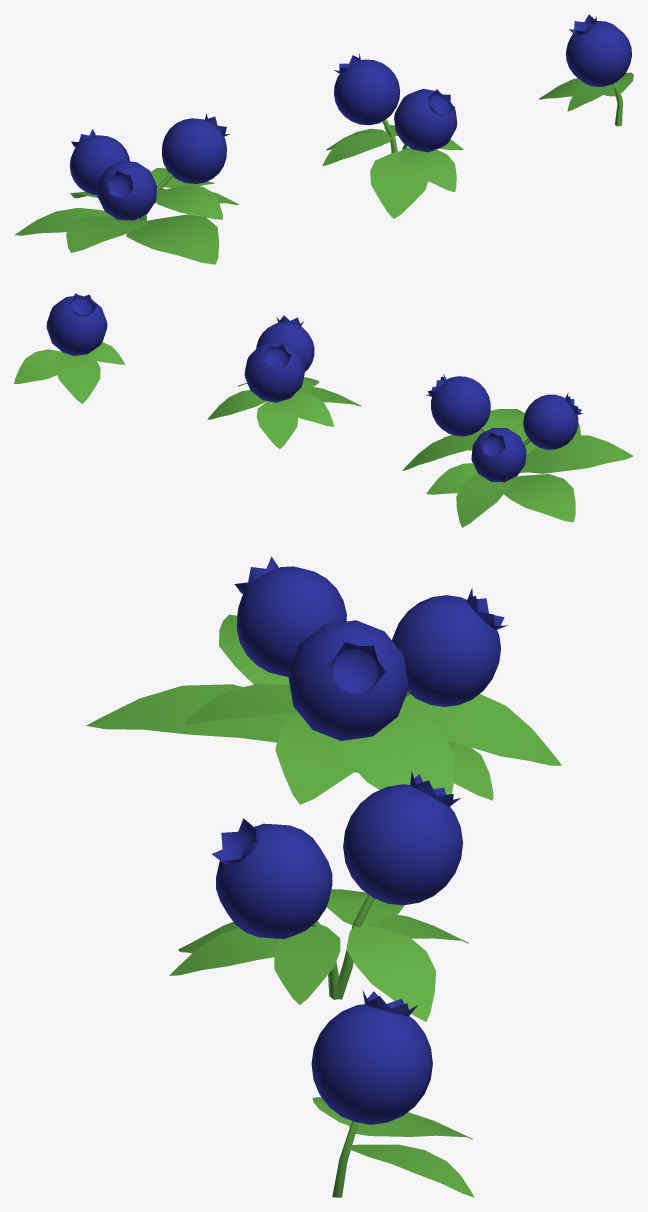
File: blueberries.fbx
3 renders of one model, top to bottom at view 1: azimuth 30°, elevation 25°; view 2: azimuth 150°, elevation 25°; view 3: azimuth 270°, elevation 25°, orthographic. The views are drawn at different scales.
Parts seen in each view (by area): view 1: Blueberry3.001, Blueberry2, Blueberry1; view 2: Blueberry3.001, Blueberry2, Blueberry1; view 3: Blueberry3.001, Blueberry2, Blueberry1.
Part boxes in pixels (bbox=[...]): Blueberry3.001: bbox=[14, 113, 239, 264]; Blueberry2: bbox=[322, 53, 463, 218]; Blueberry1: bbox=[538, 14, 633, 126]; Blueberry3.001: bbox=[402, 373, 633, 527]; Blueberry2: bbox=[207, 315, 361, 449]; Blueberry1: bbox=[14, 293, 124, 403]; Blueberry3.001: bbox=[86, 556, 561, 806]; Blueberry2: bbox=[169, 771, 468, 1021]; Blueberry1: bbox=[311, 991, 474, 1197].
Size of the model in its own units: 262 by 46.07 by 96.32.
